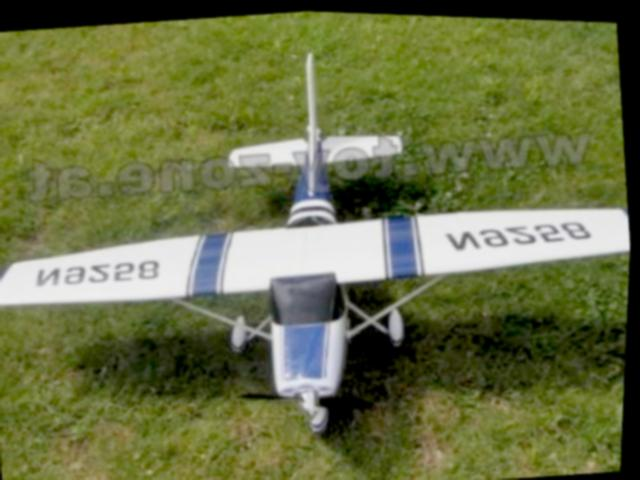uav: (0, 3, 640, 474)
